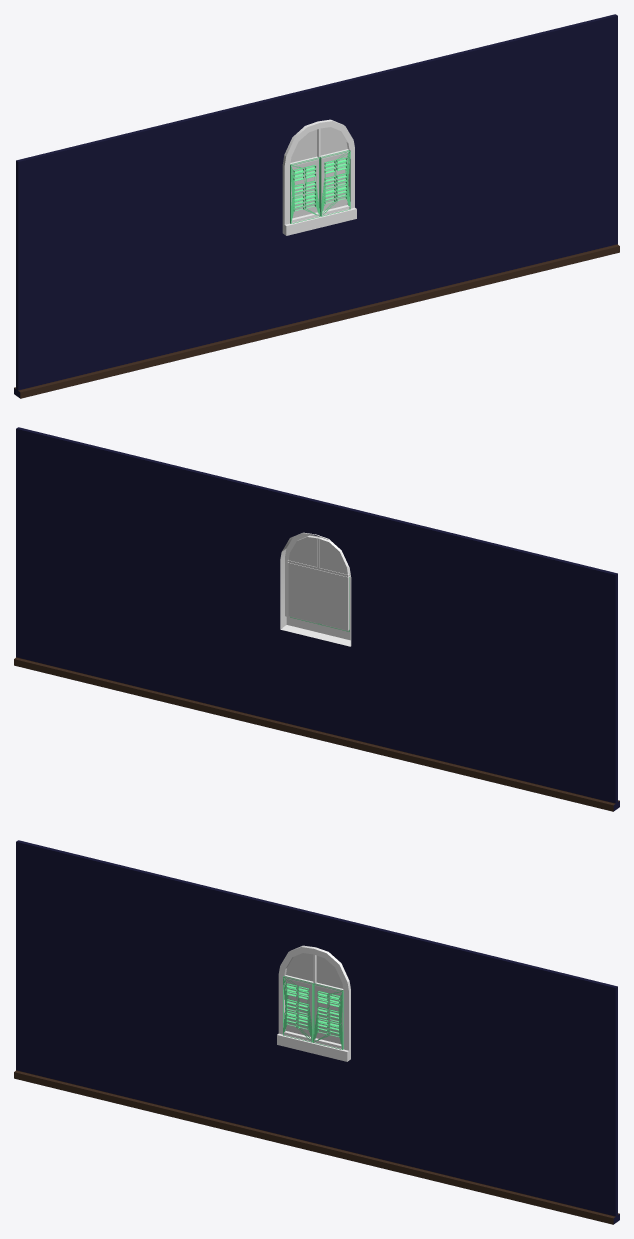
The picture shows the model from 3 angles, top to bottom: view 1: azimuth 30°, elevation 25°; view 2: azimuth 150°, elevation 25°; view 3: azimuth 330°, elevation 25°; orthographic projection.
Visible parts, largest first — view 1: ChristmasWall01, ChristmasWall02, Frame, Window, WindowDoor02, WindowDoor01; view 2: ChristmasWall01, ChristmasWall02, Window, Frame; view 3: ChristmasWall02, ChristmasWall01, Window, Frame, WindowDoor02, WindowDoor01.
Part boxes in pixels (x1,y1,x2,y2): ChristmasWall01: [14, 87, 320, 398]; ChristmasWall02: [316, 14, 619, 325]; Frame: [282, 119, 356, 235]; Window: [290, 127, 347, 218]; WindowDoor02: [320, 150, 350, 216]; WindowDoor01: [290, 157, 320, 223]; ChristmasWall01: [313, 500, 619, 811]; ChristmasWall02: [14, 427, 317, 738]; Window: [288, 537, 347, 630]; Frame: [280, 532, 351, 646]; ChristmasWall02: [313, 913, 619, 1224]; ChristmasWall01: [14, 840, 317, 1151]; Window: [286, 953, 343, 1044]; Frame: [277, 945, 350, 1061]; WindowDoor02: [313, 983, 343, 1049]; WindowDoor01: [283, 976, 313, 1042].
Size of the model in its own units: 1600 by 37.17 by 600.
